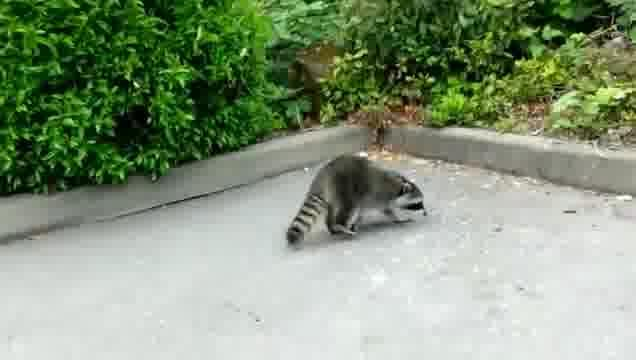raccoon: (286, 152, 429, 246)
